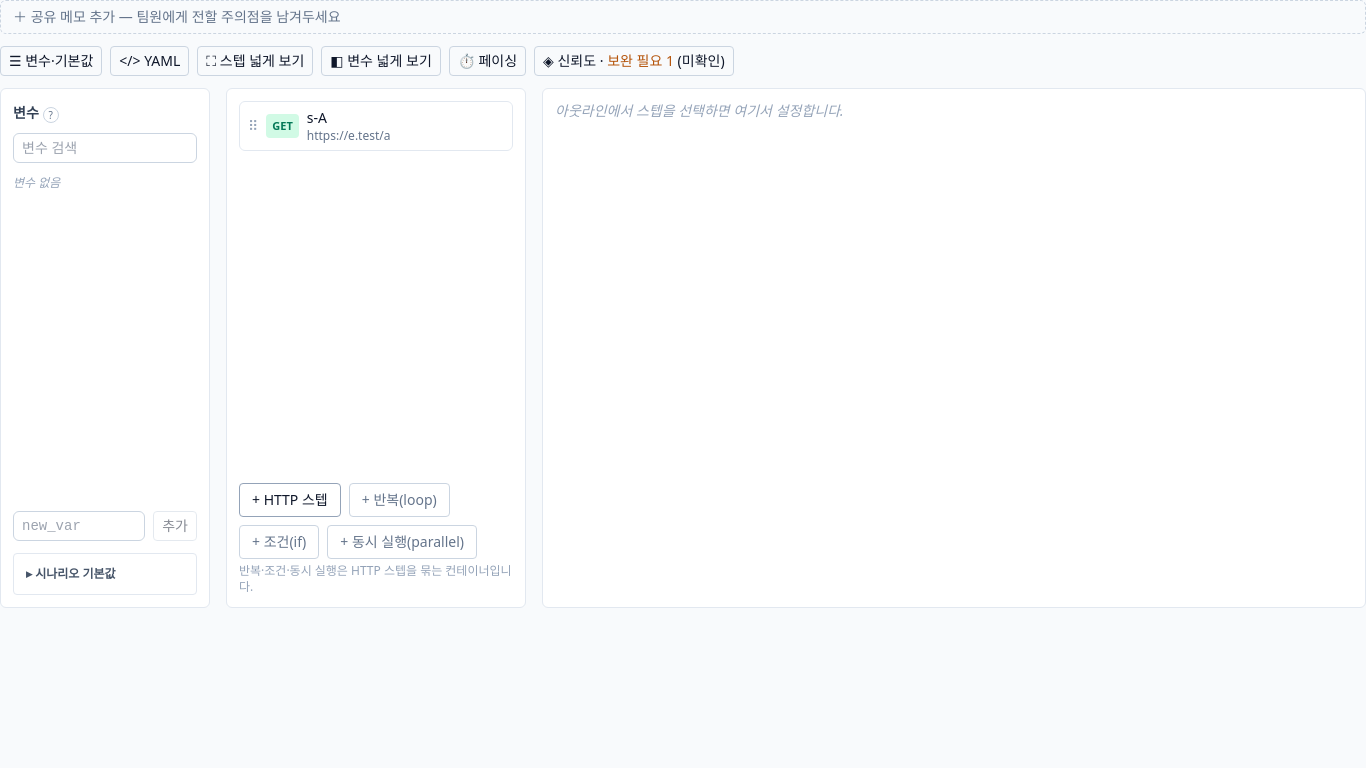
it: EditorShell — 신뢰도 칩 › 모달의 스텝 칩 클릭 → 그 스텝을 선택하고 와이드 레이아웃에서 편집 모달을 연다
Click the button with aria-label "스텝 넓게 보기 전환" at (255, 61), box 197,46 -> 313,76
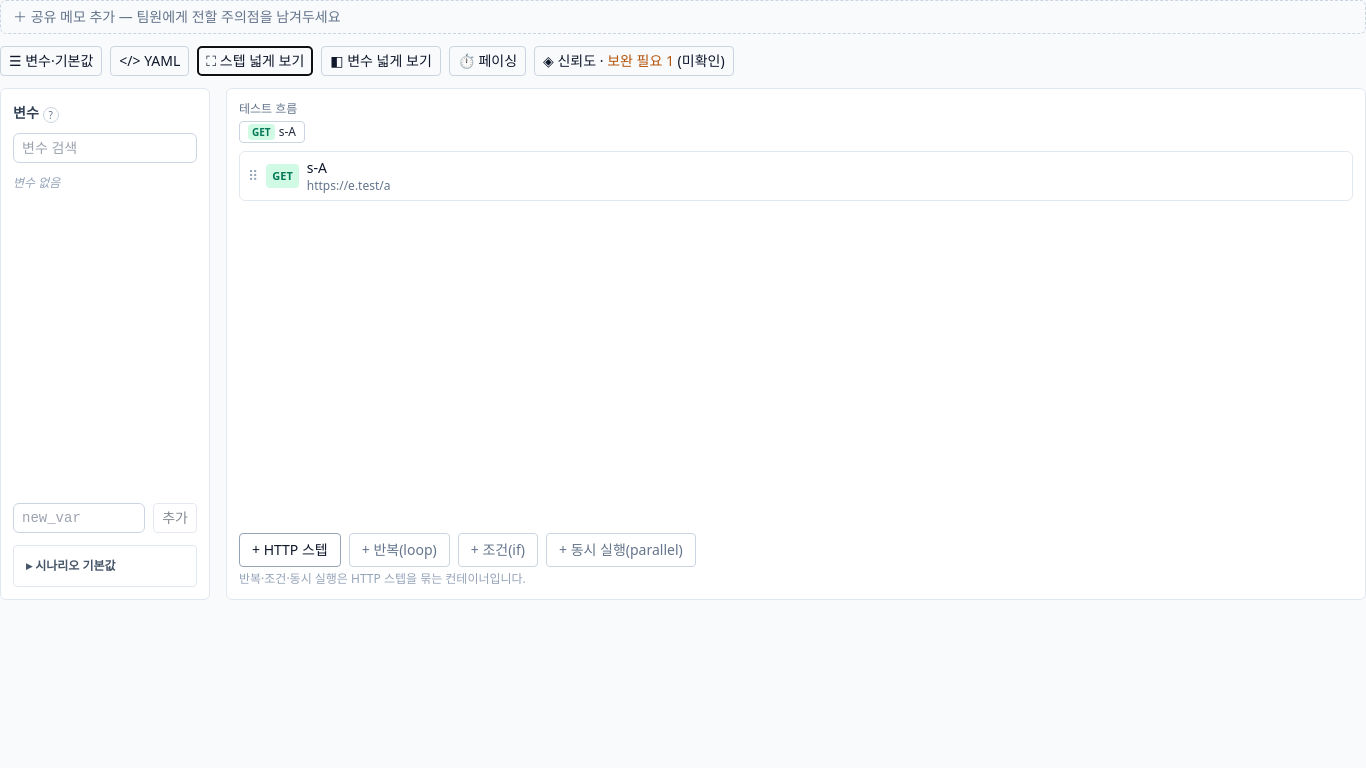
Click the button "◈ 신뢰도 · 보완 필요 1 (미확인)" at (634, 61), box 534,46 -> 734,76
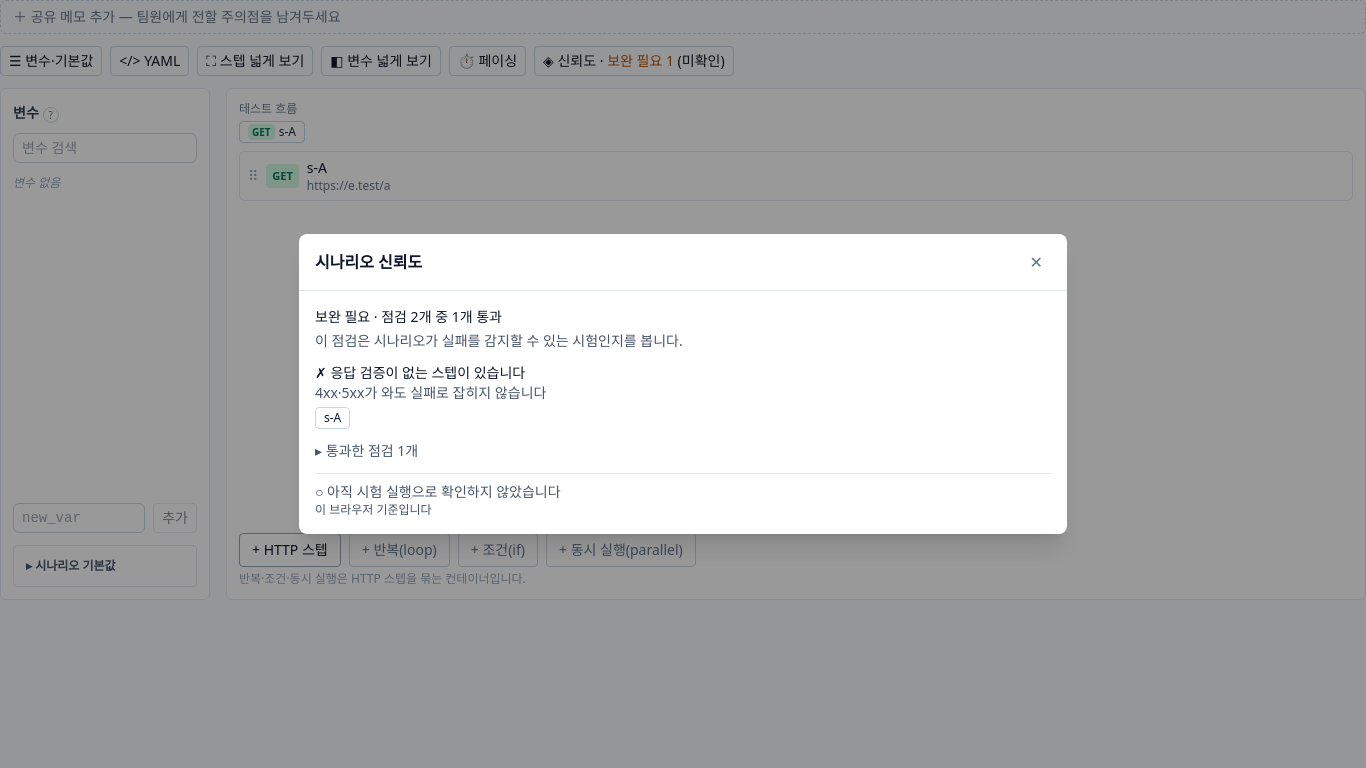
# 같은 스텝명이 와이드 칩 스트립에도 있어 페이지 전역 쿼리는 다중 매치 — 모달로 스코프.
Click the button "s-A" at (333, 418), box 315,407 -> 350,429
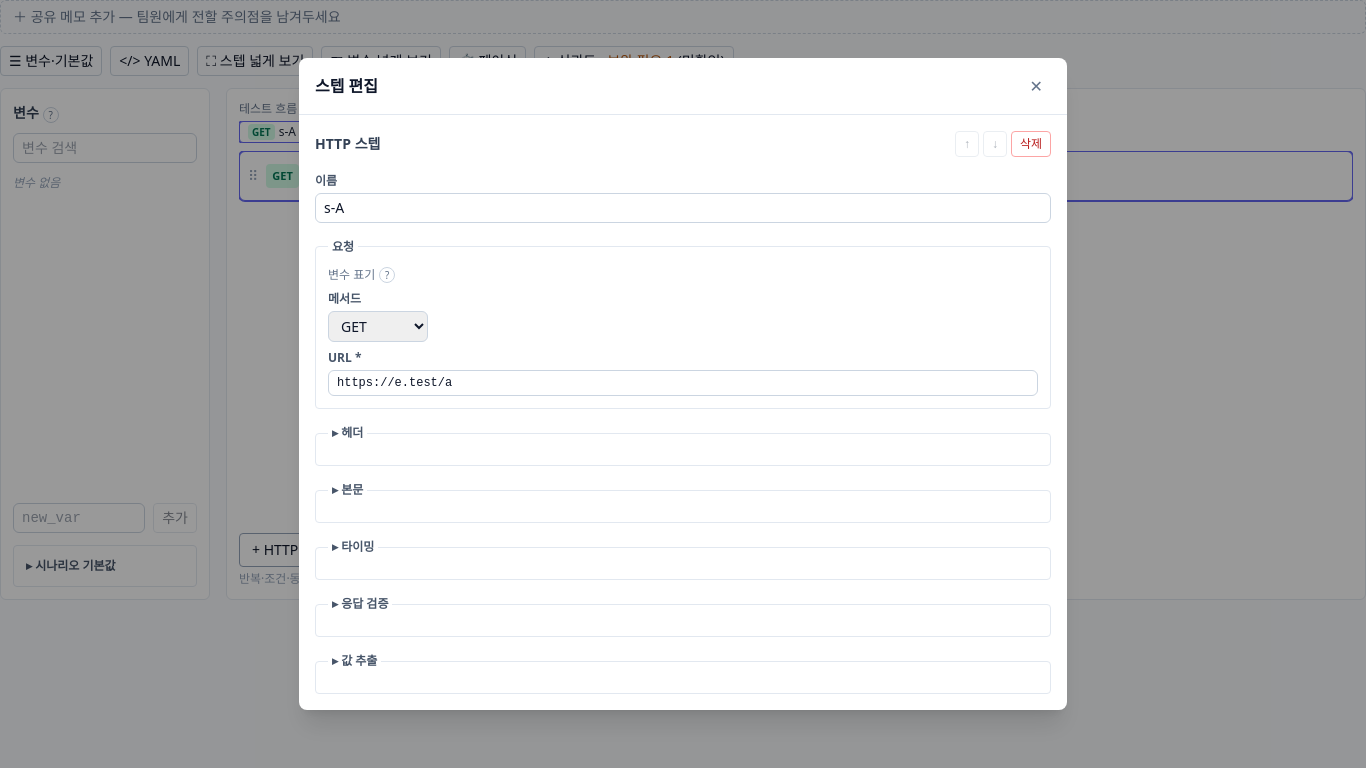
Check: the dialog "스텝 편집" is shown, box 299,58 -> 1067,710
